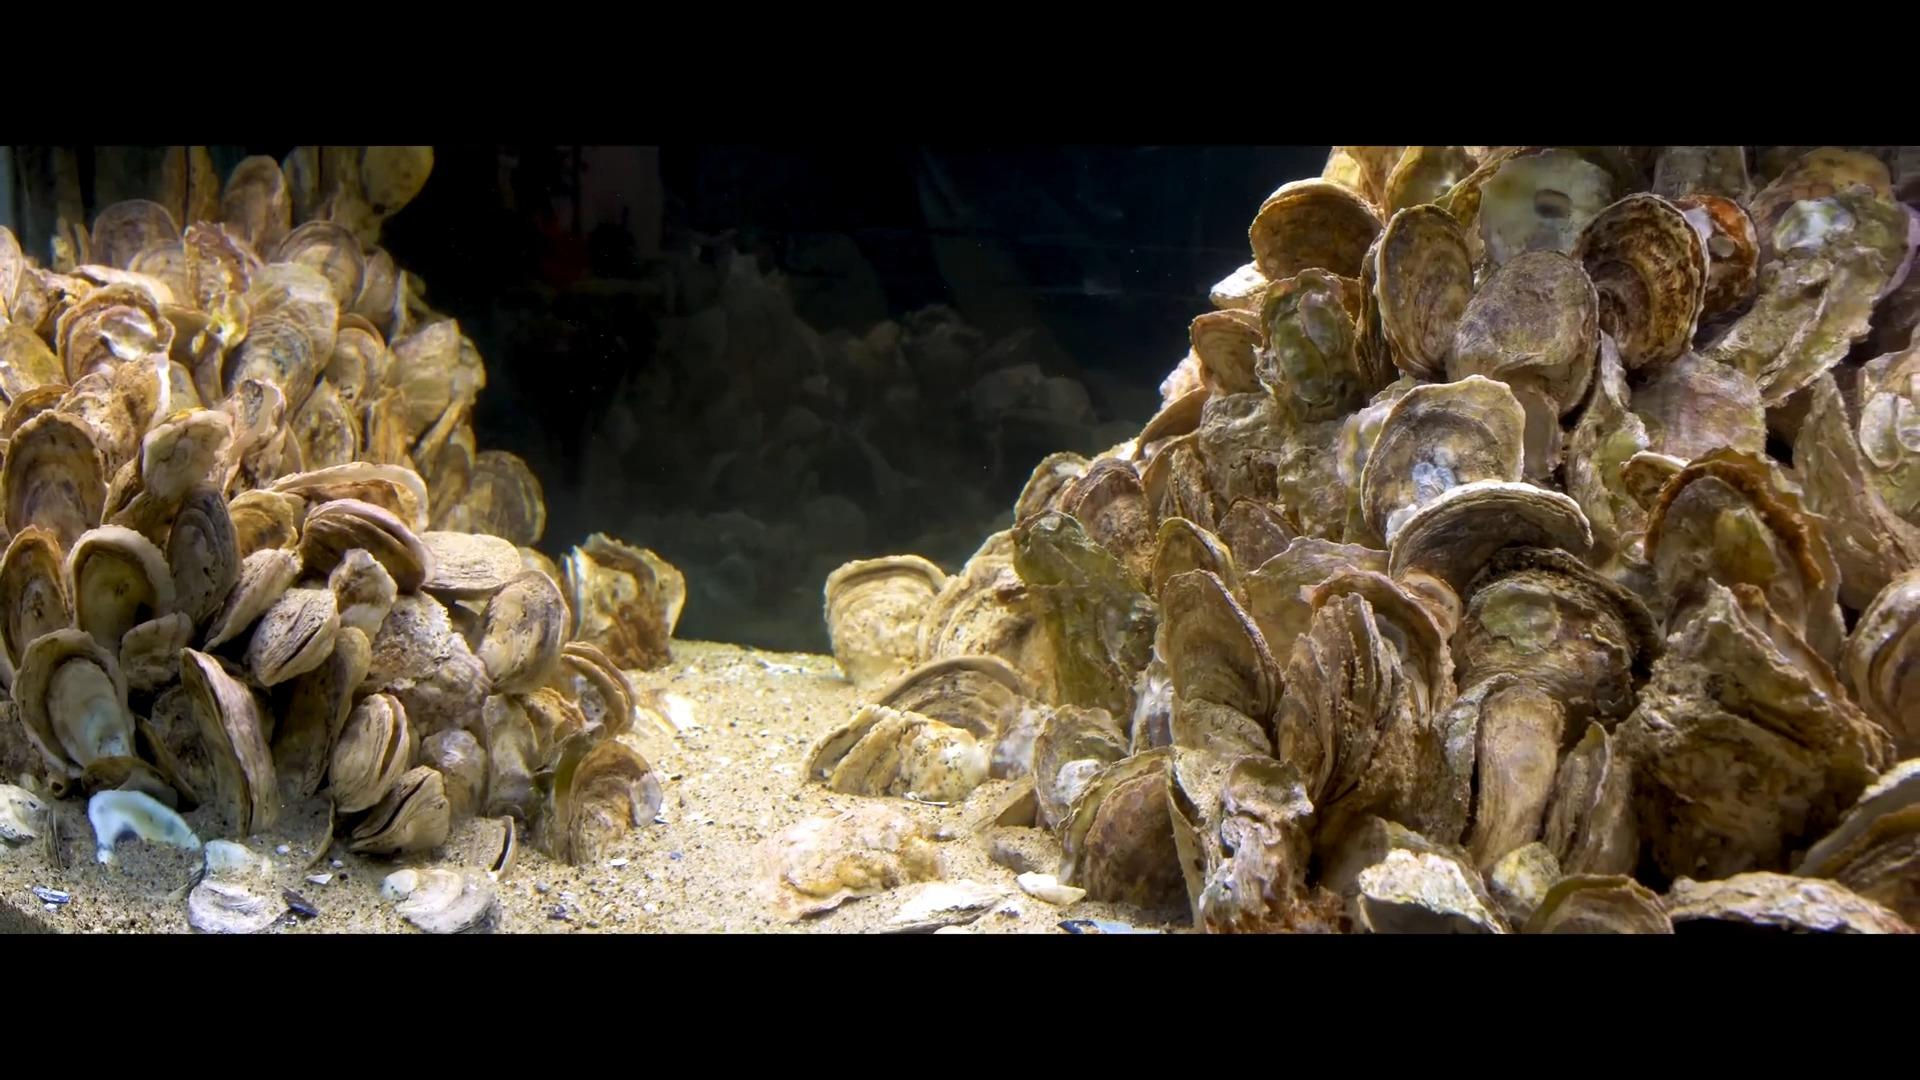Oyster: (1273, 566, 1458, 849), (1714, 187, 1911, 402), (1638, 450, 1834, 657), (1455, 551, 1664, 723), (1006, 502, 1158, 719), (1789, 361, 1916, 615), (1385, 479, 1600, 604), (1361, 377, 1523, 541), (764, 799, 965, 926), (1572, 191, 1710, 373), (1195, 749, 1328, 932), (1153, 564, 1283, 746), (1444, 255, 1602, 401), (800, 695, 1000, 806), (1052, 749, 1180, 905), (1619, 344, 1767, 475), (1255, 265, 1375, 425), (1470, 149, 1625, 272), (15, 632, 138, 774), (560, 530, 684, 673), (1538, 715, 1640, 881), (1375, 206, 1468, 384), (924, 562, 1043, 699), (355, 589, 479, 720), (1664, 869, 1912, 934), (183, 650, 276, 823), (1246, 178, 1387, 284), (65, 522, 174, 658), (556, 736, 667, 869), (1349, 845, 1514, 934), (825, 554, 947, 674), (1803, 754, 1920, 878), (49, 364, 161, 493), (1841, 568, 1919, 750), (1196, 386, 1298, 525), (1046, 454, 1155, 579), (1031, 703, 1134, 833), (4, 414, 104, 546), (294, 496, 429, 593), (235, 256, 343, 376), (385, 310, 477, 446), (265, 459, 429, 535), (1668, 191, 1759, 320), (59, 287, 171, 390), (268, 649, 340, 803), (164, 485, 240, 630), (204, 545, 302, 653), (137, 404, 235, 509), (344, 765, 452, 858), (1516, 873, 1679, 935), (1147, 514, 1241, 621), (142, 684, 219, 811), (476, 571, 558, 688), (324, 691, 407, 804), (272, 218, 368, 313), (553, 641, 636, 748), (454, 446, 543, 543), (4, 533, 71, 659), (247, 587, 336, 679), (479, 705, 543, 831), (182, 219, 257, 324), (415, 724, 489, 831), (1498, 373, 1567, 485), (323, 546, 400, 645), (320, 324, 389, 434), (218, 372, 287, 479), (88, 196, 182, 276), (1188, 307, 1267, 400), (78, 756, 185, 823), (289, 377, 360, 476), (117, 608, 195, 698), (512, 683, 589, 773), (222, 153, 289, 252), (1131, 373, 1211, 455), (413, 531, 518, 592), (224, 485, 302, 567), (352, 144, 434, 222), (1013, 448, 1092, 526), (318, 622, 373, 733), (0, 315, 66, 406), (417, 425, 475, 518), (3, 251, 61, 336), (177, 145, 222, 235)
